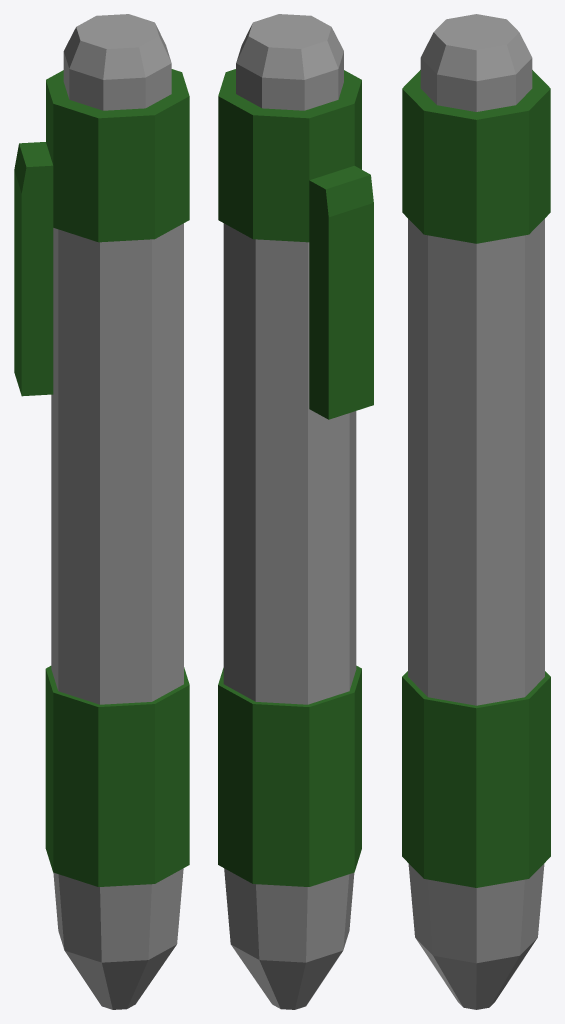
File: pen4.fbx
3 renders of one model, left to right at view 1: azimuth 30°, elevation 25°; view 2: azimuth 150°, elevation 25°; view 3: azimuth 270°, elevation 25°, orthographic.
Visible parts, largest first — view 1: pen4; view 2: pen4; view 3: pen4.
Boxes of the visible parts, x1=… form: pen4: x1=14, y1=14, x2=189, y2=1009; pen4: x1=218, y1=14, x2=373, y2=1009; pen4: x1=402, y1=14, x2=550, y2=1009.
Size of the model in its own units: 0.0218 by 0.1312 by 0.0183.
